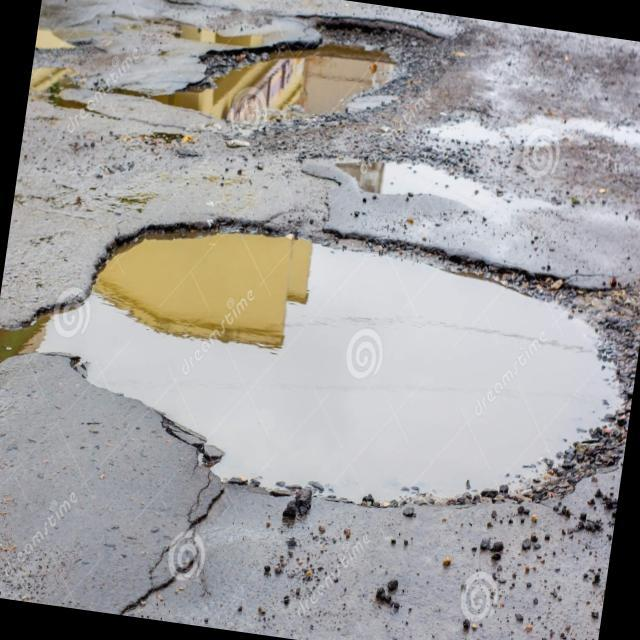Pothole: (0, 156, 640, 568), (23, 0, 477, 189)
